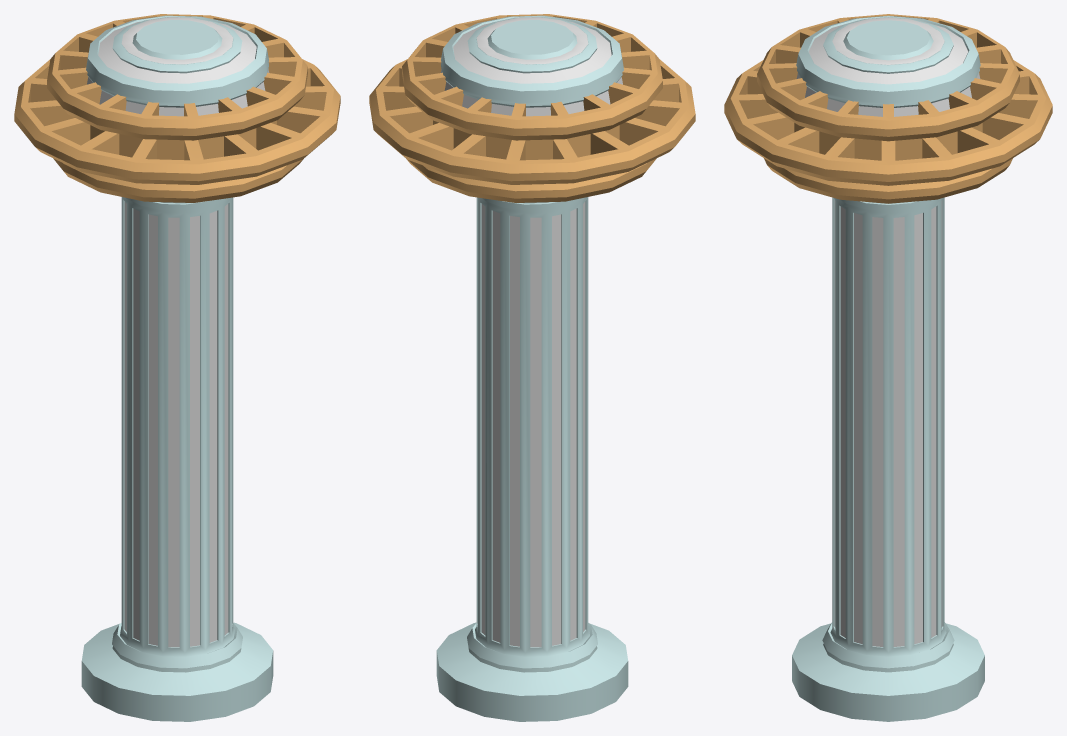
File: BigCoil.fbx
3 renders of one model, left to right at view 1: azimuth 30°, elevation 25°; view 2: azimuth 150°, elevation 25°; view 3: azimuth 270°, elevation 25°, orthographic.
Visible parts, largest first — view 1: SmallCoil; view 2: SmallCoil; view 3: SmallCoil.
Boxes of the visible parts, x1,y1,x2,y2 form: SmallCoil: (14,14,340,721); SmallCoil: (369,14,695,721); SmallCoil: (724,14,1052,721).
Size of the model in its own units: 57.25 by 124 by 57.25.
